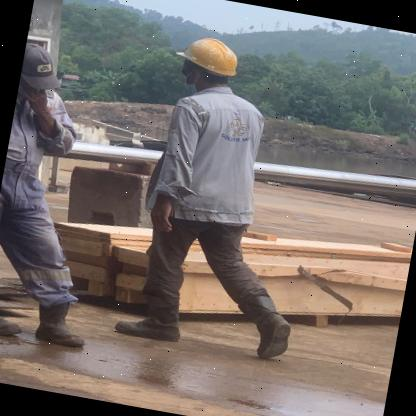bota: (226, 281, 297, 358), (110, 290, 188, 346), (31, 296, 94, 350), (0, 278, 31, 341)
